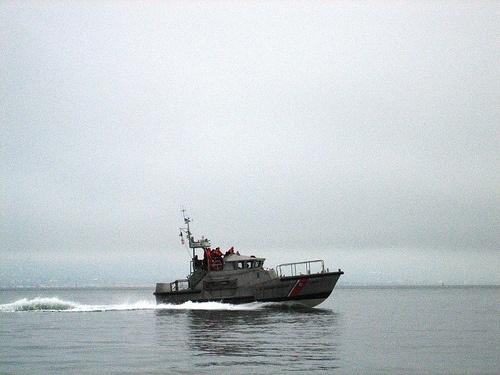boat: (155, 217, 346, 310)
